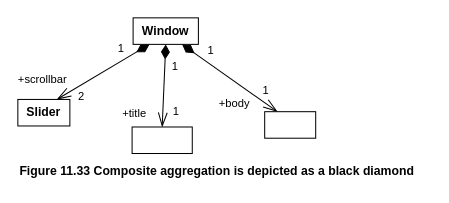
This 449x203 diagram has some shape labels left out. Here are the shapes that lost their labels. From the top down, the centre of each, then its label:
At [161,140]: "Header".
At [290,124]: "Panel".
